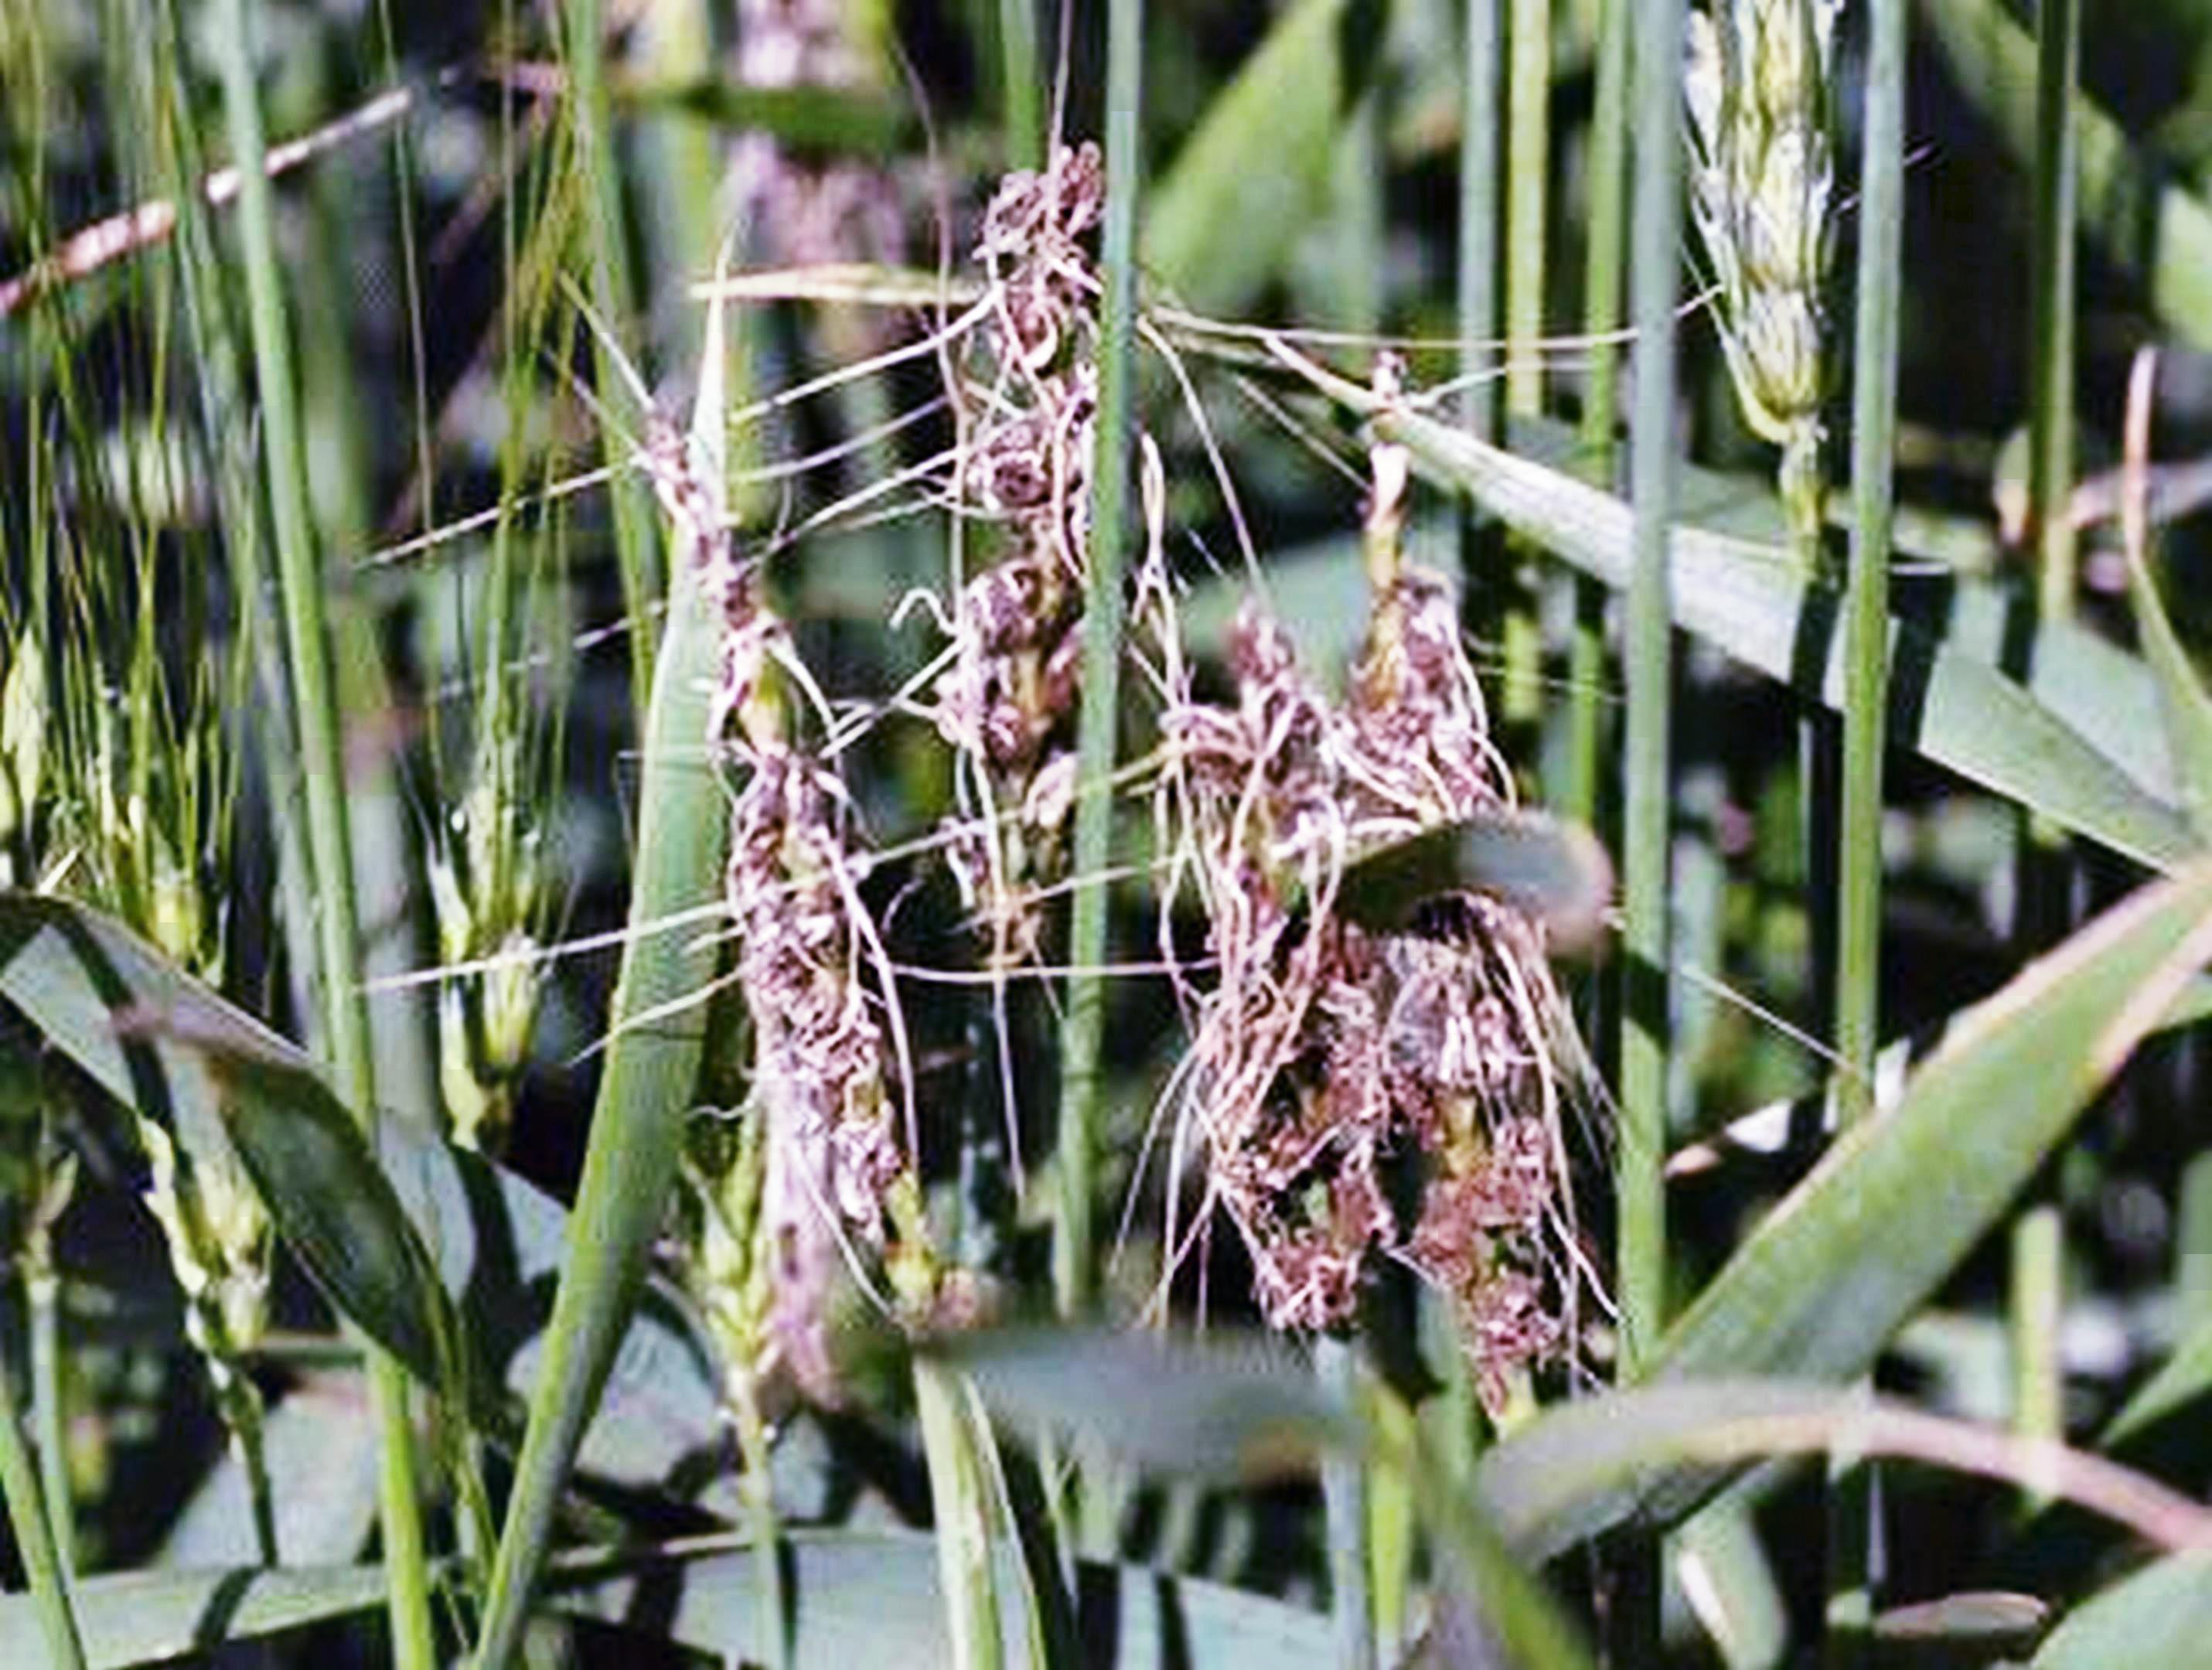Wheat Loose Smut: (660, 288, 1593, 1326)
